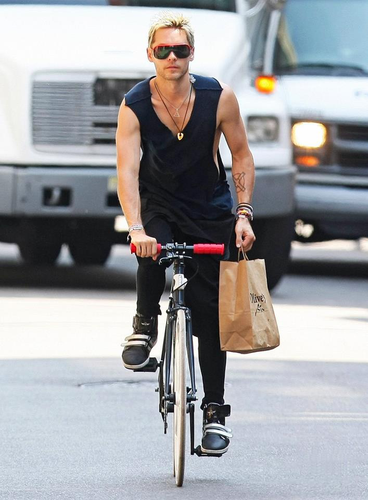bikerider: (107, 11, 287, 499)
